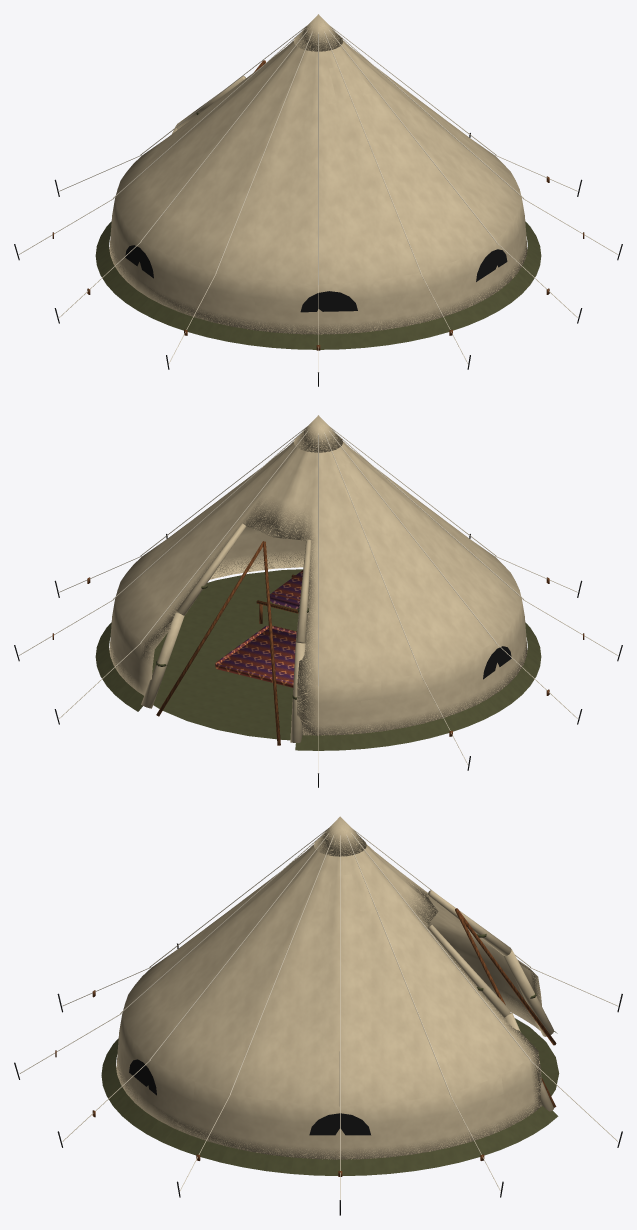
Rendered from tent_nordisk.glb.
The picture shows the model from 3 angles, top to bottom: view 1: azimuth 30°, elevation 25°; view 2: azimuth 150°, elevation 25°; view 3: azimuth 270°, elevation 25°; orthographic projection. The views are drawn at different scales.
Parts seen in each view (by area): view 1: TentCanvas, TentTrimAndFloor, TentSeams, TentMeshWindows, TentGuylines; view 2: TentCanvas, TentTrimAndFloor, TentWoolInterior, TentSeams, TentWoodPoles, TentGuylines; view 3: TentCanvas, TentTrimAndFloor, TentSeams, TentMeshWindows, TentWoodPoles, TentGuylines.
Part boxes in pixels (<box>): TentCanvas: <box>109,14,527,334</box>; TentTrimAndFloor: <box>95,112,541,349</box>; TentSeams: <box>113,26,523,285</box>; TentMeshWindows: <box>125,245,507,312</box>; TentGuylines: <box>19,155,617,371</box>; TentCanvas: <box>109,415,527,742</box>; TentTrimAndFloor: <box>95,569,541,750</box>; TentWoolInterior: <box>215,570,302,687</box>; TentSeams: <box>113,427,523,686</box>; TentWoodPoles: <box>52,541,584,745</box>; TentGuylines: <box>19,556,617,772</box>; TentCanvas: <box>116,816,553,1159</box>; TentTrimAndFloor: <box>101,934,559,1175</box>; TentSeams: <box>120,828,530,1106</box>; TentMeshWindows: <box>129,1059,370,1135</box>; TentWoodPoles: <box>55,908,556,1176</box>; TentGuylines: <box>19,967,617,1199</box>.
Size of the model in its own units: 5.9 by 2.63 by 5.51.
7 materials, 6 textured.
